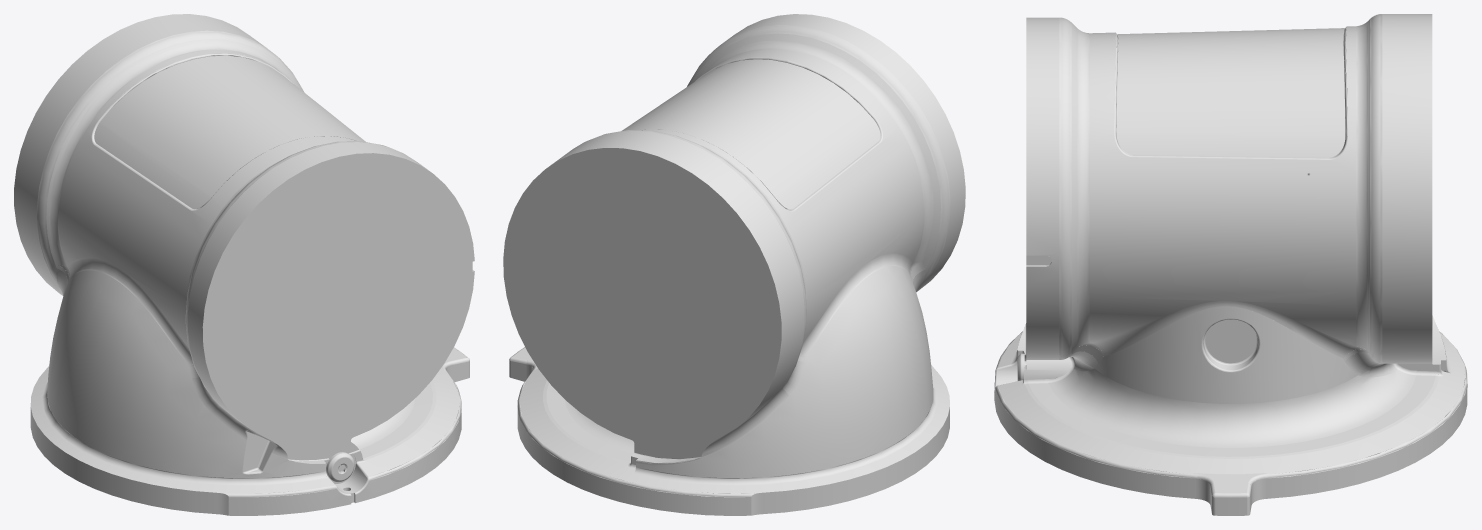
3 renders of one model, left to right at view 1: azimuth 30°, elevation 25°; view 2: azimuth 150°, elevation 25°; view 3: azimuth 270°, elevation 25°, orthographic. The views are drawn at different scales.
Visible parts, largest first — view 1: link2; view 2: link2; view 3: link2.
Part boxes in pixels (x1=…): link2: x1=14, y1=14, x2=474, y2=515; link2: x1=503, y1=14, x2=965, y2=515; link2: x1=994, y1=14, x2=1467, y2=515.
Bounding box in the file's own units: 0.1481 × 0.1379 × 0.119.
Materials: 2 (1 with a texture image).
